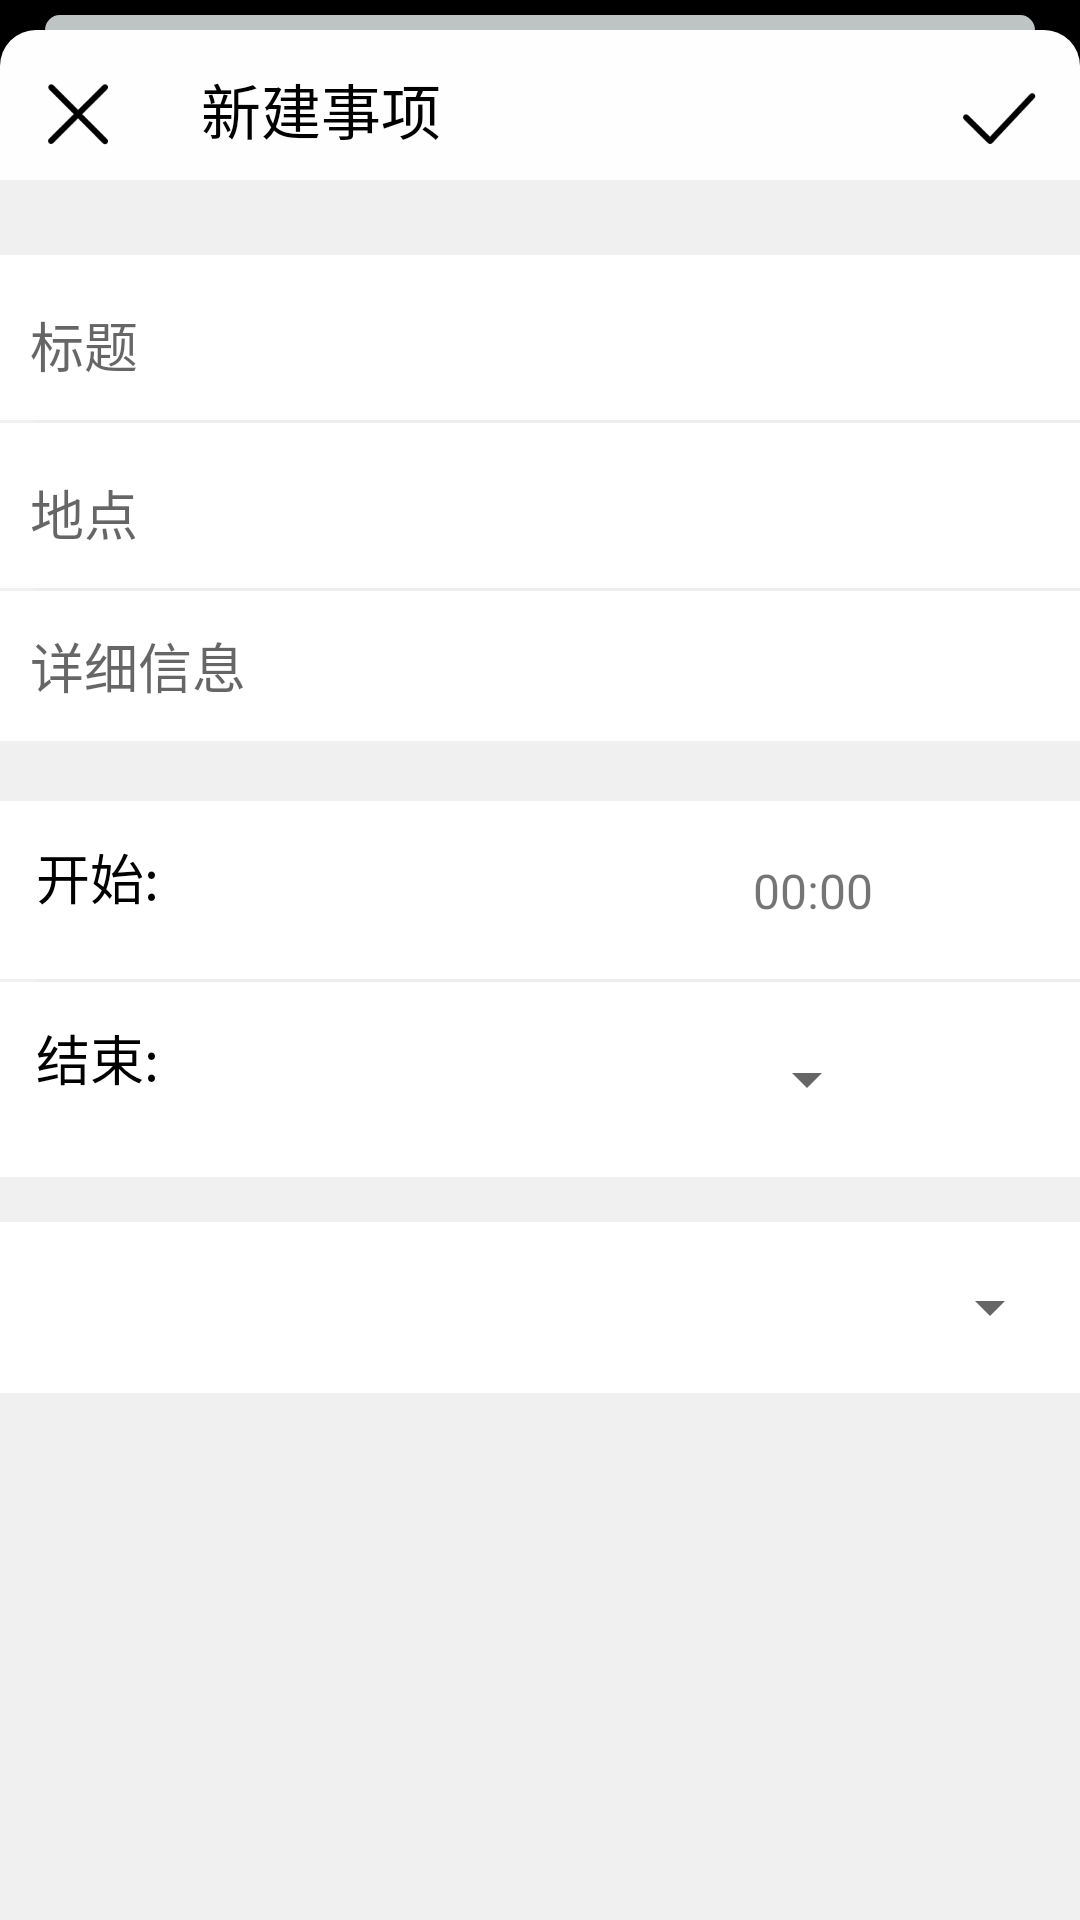

Named icons in this screenshot (1080px×1920px) and their bounding boxes, (left=x1, top=y1, right=x2, bottom=y2):
check: (left=963, top=93, right=1036, bottom=144)
close: (left=48, top=84, right=108, bottom=145)
